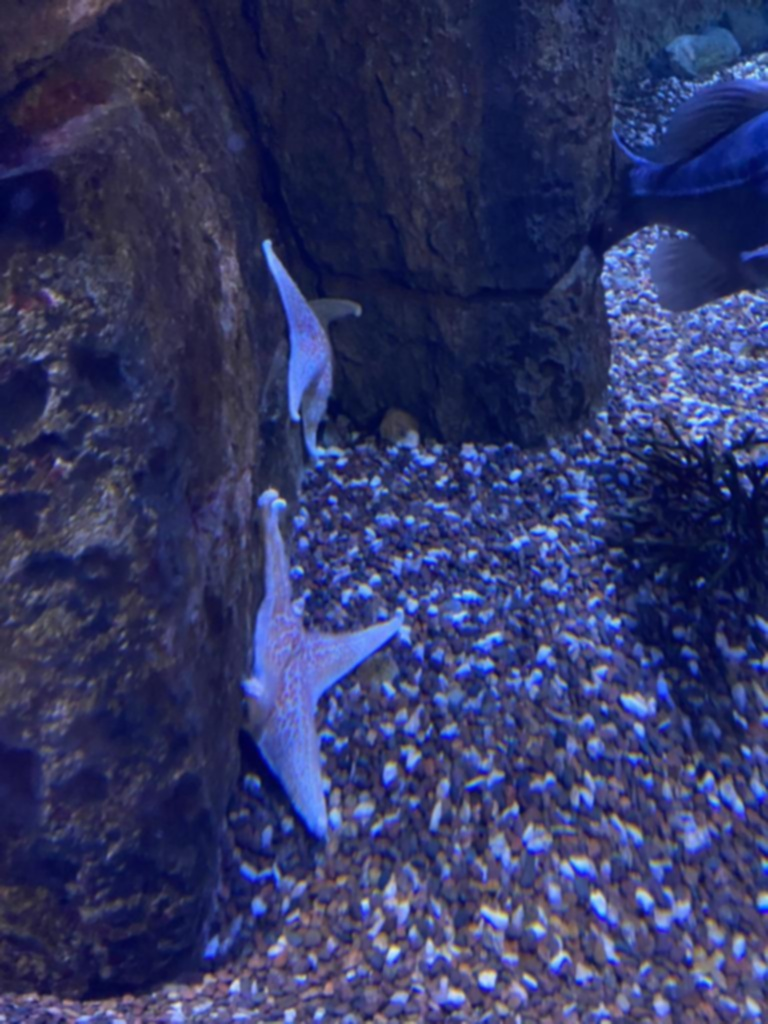fish: (605, 72, 767, 276)
starfish: (236, 496, 384, 830), (264, 236, 360, 464)
